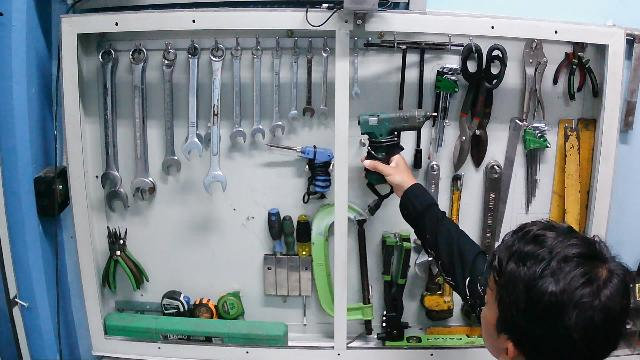gun_lem: (355, 109, 439, 218)
